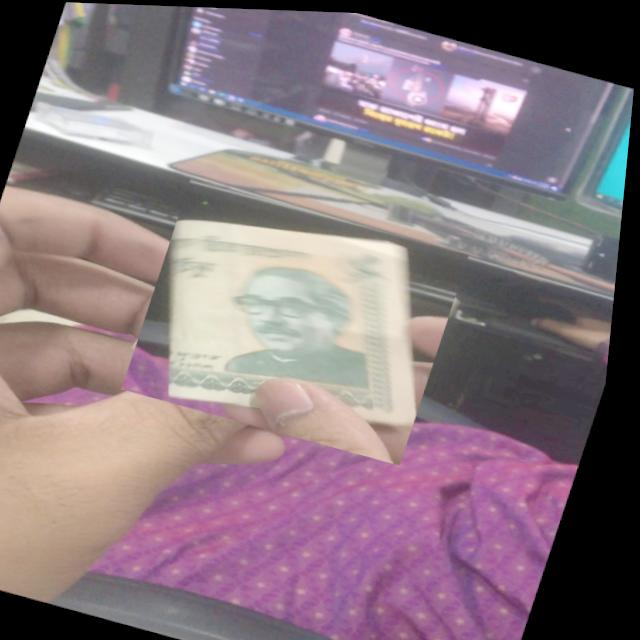Taka: (124, 175, 479, 463)
